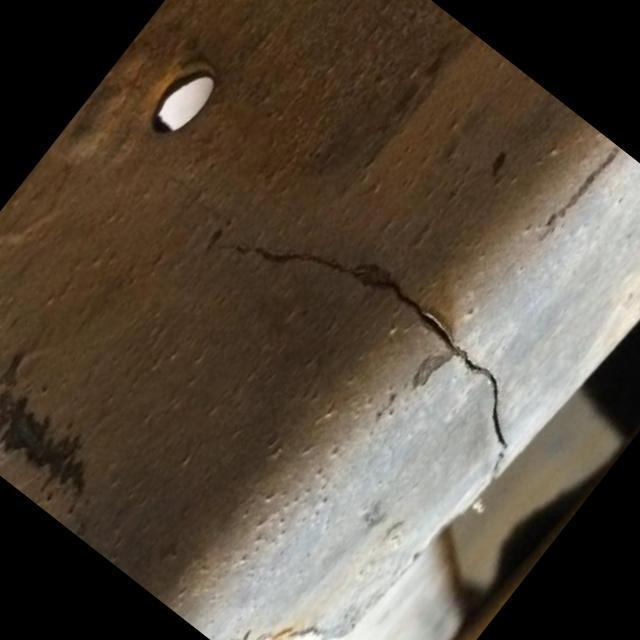defect: (213, 242, 511, 482), (225, 623, 331, 640)
